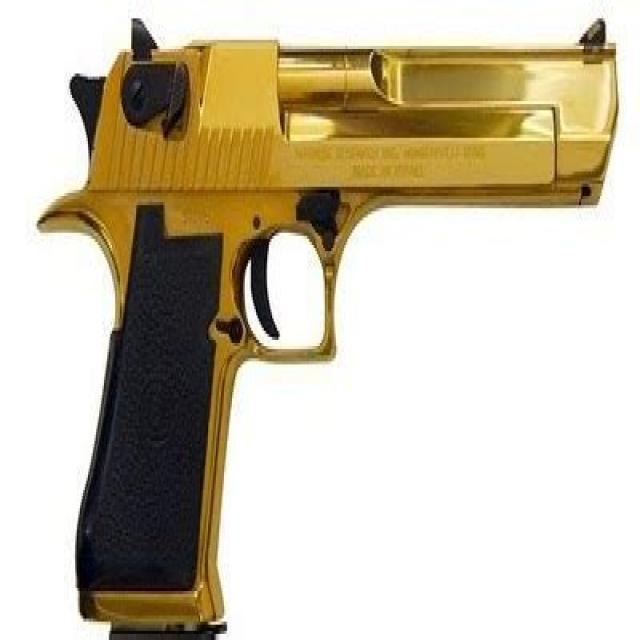Pistol: (29, 0, 628, 640)
